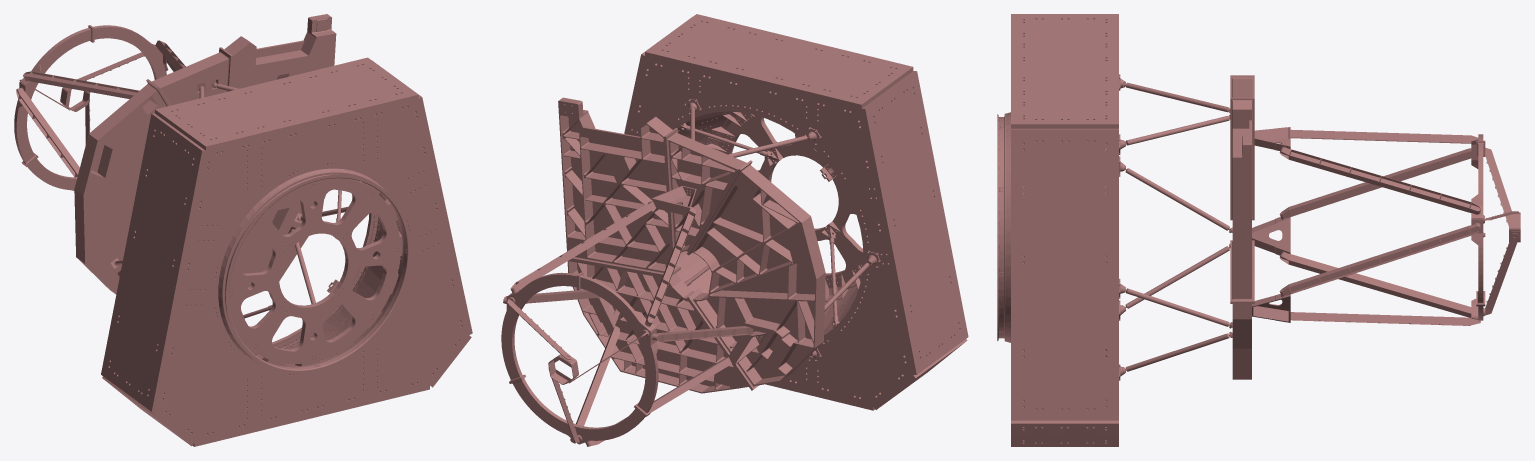
Rendered from Euclid.glb.
3 views of the same model, side by side, from view 1: azimuth 30°, elevation 25°; view 2: azimuth 150°, elevation 25°; view 3: azimuth 270°, elevation 25° (orthographic). The views are drawn at different scales.
Bounding box in the file's own units: 3064 × 2713 × 4067.
